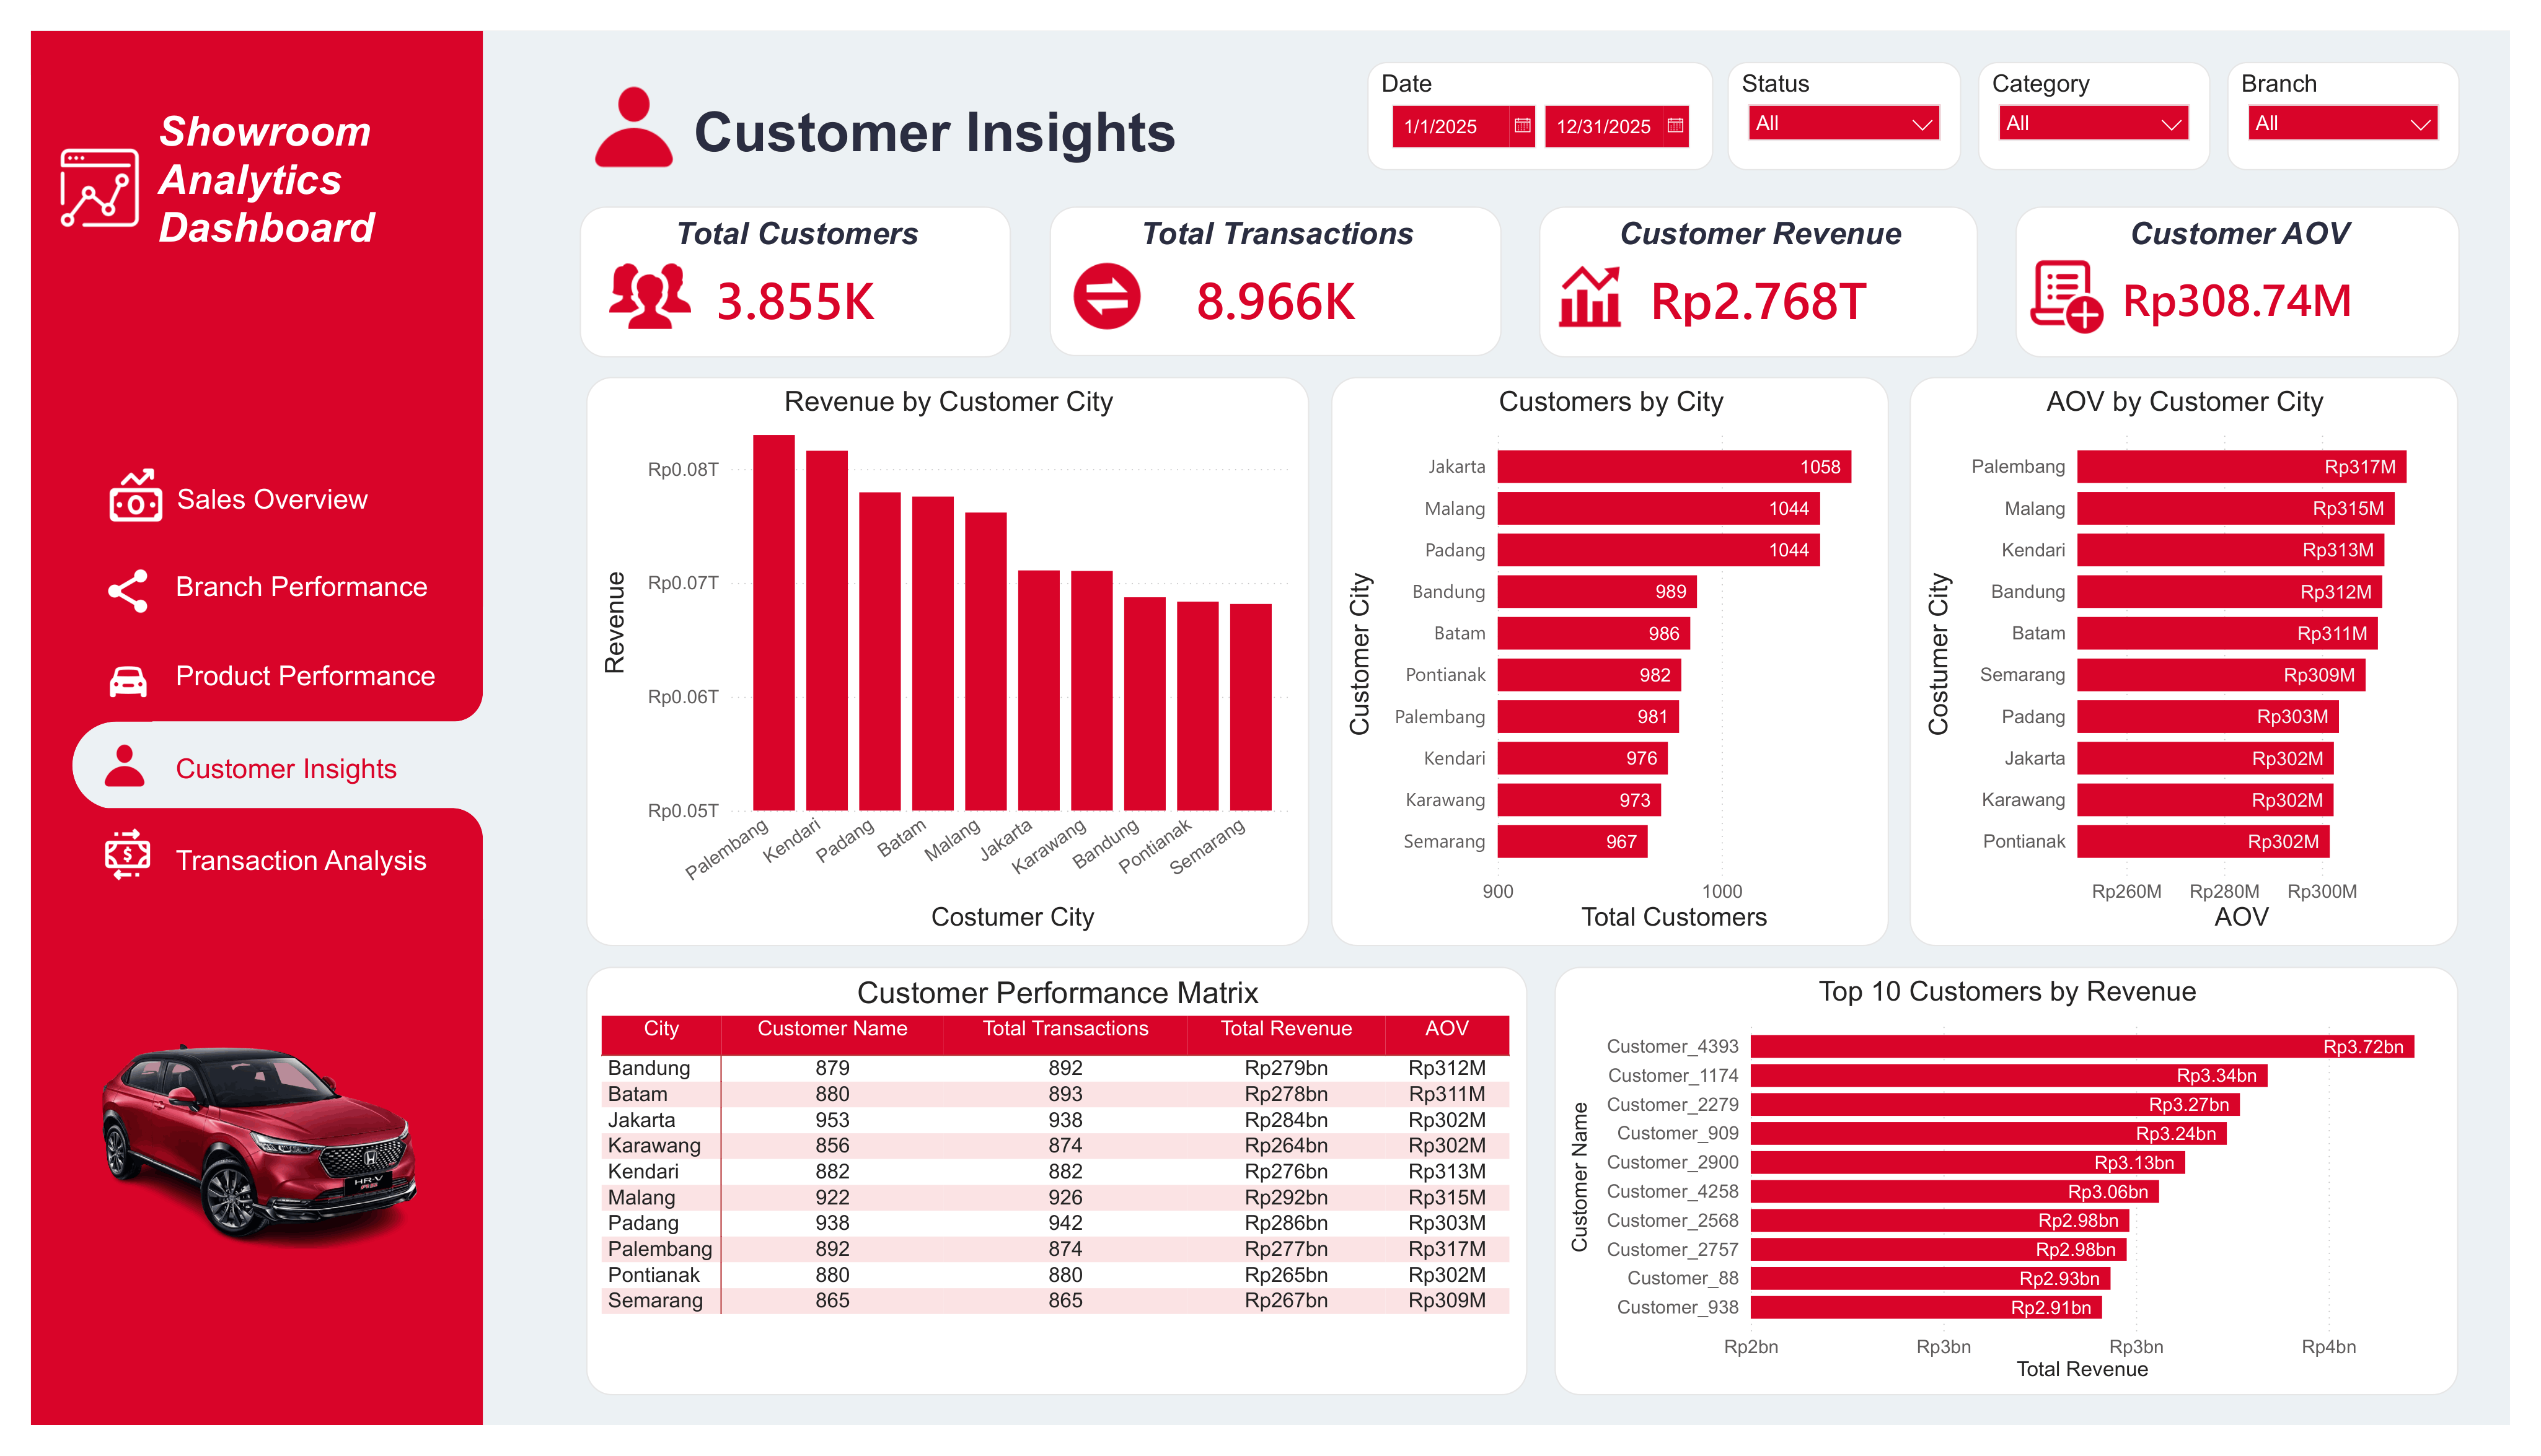

What the dashboard file says about the page in this screenshot:
{"tool":"powerbi","page":{"name":"Customer Insights","canvas":[1920,1080],"ordinal":3},"visuals":[{"type":"shape","box":[0,0,350,1080],"z":0},{"type":"image","box":[0,621.5,352.3,458.5],"z":1000},{"type":"barChart","title":"AOV by Customer City","fields":{"Category":["showroom_mobil_clean.city"],"Y":["showroom_mobil_clean.AOV"]},"box":[1455.2,267.8,425.3,441.4],"z":2000},{"type":"barChart","title":"Customers by City","fields":{"Y":["CountNonNull(showroom_mobil_clean.customer_name)"],"Category":["showroom_mobil_clean.city"]},"box":[1006.9,267.8,432.2,441.4],"z":3000},{"type":"cardVisual","title":"Total Customers","fields":{"Data":["showroom_mobil_clean.Total Customers"]},"box":[425.4,135.7,333.2,117.2],"z":4000},{"type":"image","box":[20,91.3,66.1,60.9],"z":5000},{"type":"textbox","box":[508.4,48.7,499.2,60.6],"z":6000},{"type":"cardVisual","title":"Total Transactions","fields":{"Data":["showroom_mobil_clean.Total Transactions"]},"box":[788.9,135.7,350.3,115.9],"z":7000},{"type":"cardVisual","title":"Customer Revenue","fields":{"Data":["showroom_mobil_clean.total_revenue"]},"box":[1168.2,135.7,339.8,117.2],"z":8000},{"type":"cardVisual","title":"Customer AOV","fields":{"Data":["showroom_mobil_clean.AOV"]},"box":[1537,135.7,343.8,117.2],"z":9000},{"type":"slicer","title":"Date","fields":{"Values":["showroom_mobil_clean.sales_date"]},"box":[1034.7,24.5,268,83.8],"z":10000},{"type":"slicer","title":"Status","fields":{"Values":["showroom_mobil_clean.status"]},"box":[1314.4,24.5,180.4,83.8],"z":11000},{"type":"slicer","title":"Category","fields":{"Values":["showroom_mobil_clean.category"]},"box":[1507.7,24.5,180.4,83.8],"z":12000},{"type":"slicer","title":"Branch","fields":{"Values":["showroom_mobil_clean.branch"]},"box":[1700.9,24.5,180.4,83.8],"z":13000},{"type":"shape","box":[93.5,446.5,259.5,89.6],"z":14000},{"type":"shape","box":[0,385.9,350.3,148.8],"z":15000},{"type":"shape","box":[31.6,534.7,350.3,68.5],"z":16000},{"type":"shape","box":[86.9,601.9,264.7,85.6],"z":17000},{"type":"textbox","box":[108.3,346.3,196.7,42.1],"z":18000},{"type":"image","box":[56.2,330.6,51.2,57.9],"z":19000},{"type":"shape","box":[10.5,601.9,339.8,156.7],"z":20000},{"type":"textbox","box":[93,54.8,244.3,133.9],"z":21000},{"type":"textbox","box":[107.3,413.8,216.5,43.1],"z":22000},{"type":"textbox","box":[107.3,555,197.2,35.8],"z":23000},{"type":"textbox","box":[107.3,483.5,216.5,42.2],"z":24000},{"type":"textbox","box":[107.3,625.7,216.5,35.8],"z":25000},{"type":"image","box":[55.3,410.9,39.5,46.1],"z":26000},{"type":"image","box":[55.3,480.7,40.8,46.1],"z":27000},{"type":"image","box":[52.7,547.9,39.5,42.1],"z":28000},{"type":"image","box":[55.3,615.1,39.5,46.1],"z":29000},{"type":"image","box":[425.4,36.9,83,76.4],"z":30000},{"type":"columnChart","title":"Revenue by Customer City","fields":{"Category":["showroom_mobil_clean.city"],"Y":["showroom_mobil_clean.total_revenue"]},"box":[429.9,267.8,559.8,441.4],"z":31000},{"type":"clusteredBarChart","title":"Top 10 Customers by Revenue","fields":{"Y":["showroom_mobil_clean.total_revenue"],"Category":["showroom_mobil_clean.customer_name"]},"box":[1180.5,725.3,700,332.2],"z":32000},{"type":"pivotTable","title":"Customer Performance Matrix","fields":{"Rows":["showroom_mobil_clean.city"],"Values":["Count(showroom_mobil_clean.customer_name)","showroom_mobil_clean.Total Transactions","showroom_mobil_clean.total_revenue","showroom_mobil_clean.AOV"]},"box":[429.9,725.3,728.7,332.2],"z":33000},{"type":"image","box":[439.9,173.9,79,63.2],"z":34000},{"type":"image","box":[794.2,173.9,79,63.2],"z":35000},{"type":"image","box":[1168.2,173.9,79,63.2],"z":36000},{"type":"image","box":[1537,173.9,79,63.2],"z":37000}]}

Visuals, with their boxes on the page's 1920x1080 design canvas (x1, y1, x2, y2). These are canvas units, not pixel positions in the 2541x1456 screenshot, which may show the page scaled, cropped or inside an application window:
shape: region(0, 0, 350, 1080)
image: region(0, 622, 352, 1080)
"AOV by Customer City" barChart: region(1455, 268, 1880, 709)
"Customers by City" barChart: region(1007, 268, 1439, 709)
"Total Customers" cardVisual: region(425, 136, 759, 253)
image: region(20, 91, 86, 152)
textbox: region(508, 49, 1008, 109)
"Total Transactions" cardVisual: region(789, 136, 1139, 252)
"Customer Revenue" cardVisual: region(1168, 136, 1508, 253)
"Customer AOV" cardVisual: region(1537, 136, 1881, 253)
"Date" slicer: region(1035, 24, 1303, 108)
"Status" slicer: region(1314, 24, 1495, 108)
"Category" slicer: region(1508, 24, 1688, 108)
"Branch" slicer: region(1701, 24, 1881, 108)
shape: region(94, 446, 353, 536)
shape: region(0, 386, 350, 535)
shape: region(32, 535, 382, 603)
shape: region(87, 602, 352, 688)
textbox: region(108, 346, 305, 388)
image: region(56, 331, 107, 388)
shape: region(10, 602, 350, 759)
textbox: region(93, 55, 337, 189)
textbox: region(107, 414, 324, 457)
textbox: region(107, 555, 304, 591)
textbox: region(107, 484, 324, 526)
textbox: region(107, 626, 324, 662)
image: region(55, 411, 95, 457)
image: region(55, 481, 96, 527)
image: region(53, 548, 92, 590)
image: region(55, 615, 95, 661)
image: region(425, 37, 508, 113)
"Revenue by Customer City" columnChart: region(430, 268, 990, 709)
"Top 10 Customers by Revenue" clusteredBarChart: region(1180, 725, 1880, 1058)
"Customer Performance Matrix" pivotTable: region(430, 725, 1159, 1058)
image: region(440, 174, 519, 237)
image: region(794, 174, 873, 237)
image: region(1168, 174, 1247, 237)
image: region(1537, 174, 1616, 237)
